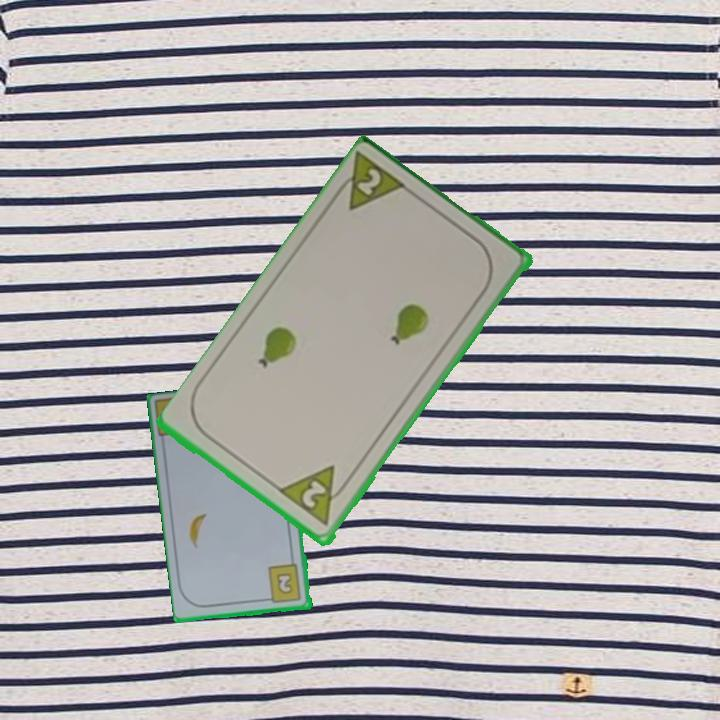2b: (262, 561, 304, 606)
2p: (327, 150, 412, 215), (277, 462, 355, 530)
